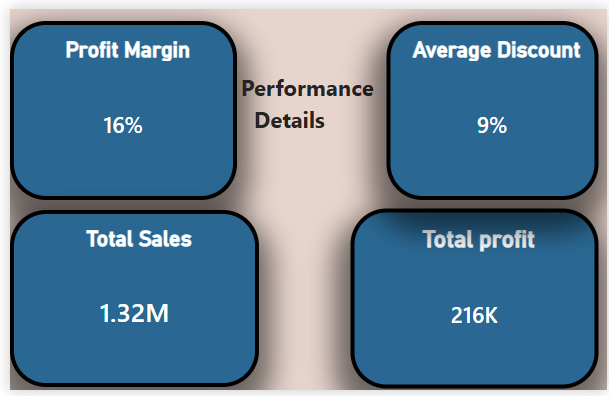

What the dashboard file says about the page in this screenshot:
{"tool":"powerbi","page":{"name":"Details Tooltip","canvas":[398,254],"ordinal":3},"visuals":[{"type":"cardVisual","title":"Profit Margin","fields":{"Data":["_KPI.Profit Margin"]},"box":[0,8,151,119],"z":0},{"type":"cardVisual","title":"Total profit","fields":{"Data":["_KPI.Total Profit"]},"box":[227,133,165,120],"z":1000},{"type":"cardVisual","title":"Total Sales","fields":{"Data":["_KPI.Total Sales"]},"box":[0,134,166,118],"z":2000},{"type":"textbox","box":[117,29,142,84],"z":3000},{"type":"cardVisual","title":"Average Discount","fields":{"Data":["_KPI.Average Discount"]},"box":[251,8,141,119],"z":4000}]}

Visuals, with their boxes in screenshot pixels (x1, y1, x2, y2), scaled from the page's 398x254 canvas onto the 609x396 screenshot:
"Profit Margin" cardVisual: (left=0, top=12, right=231, bottom=198)
"Total profit" cardVisual: (left=347, top=207, right=600, bottom=394)
"Total Sales" cardVisual: (left=0, top=209, right=254, bottom=393)
textbox: (left=179, top=45, right=396, bottom=176)
"Average Discount" cardVisual: (left=384, top=12, right=600, bottom=198)
